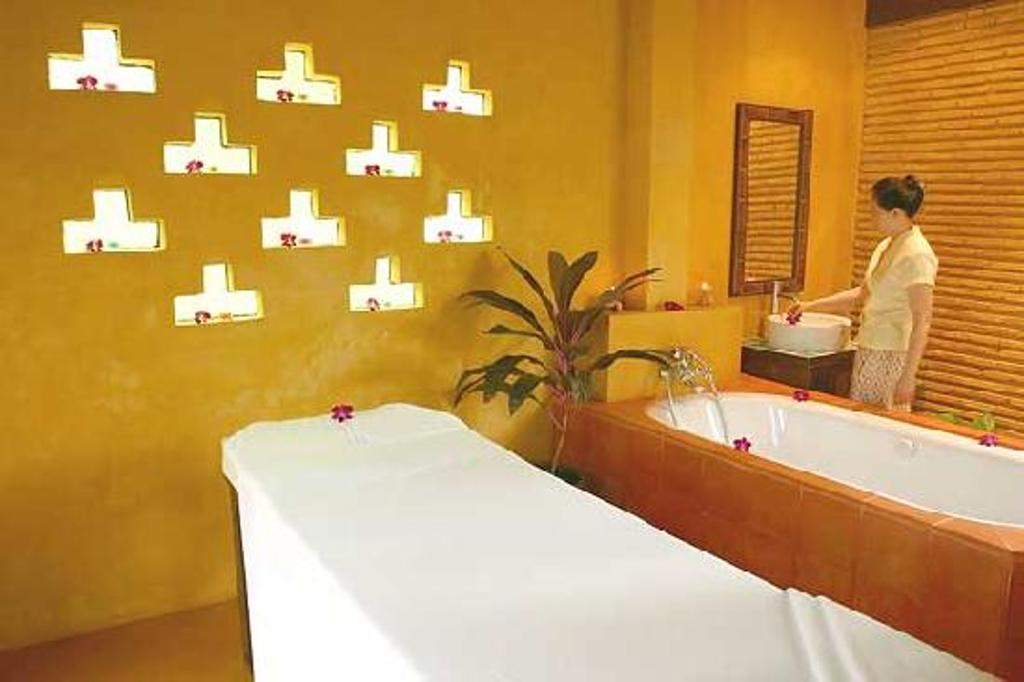face: (869, 199, 891, 231)
